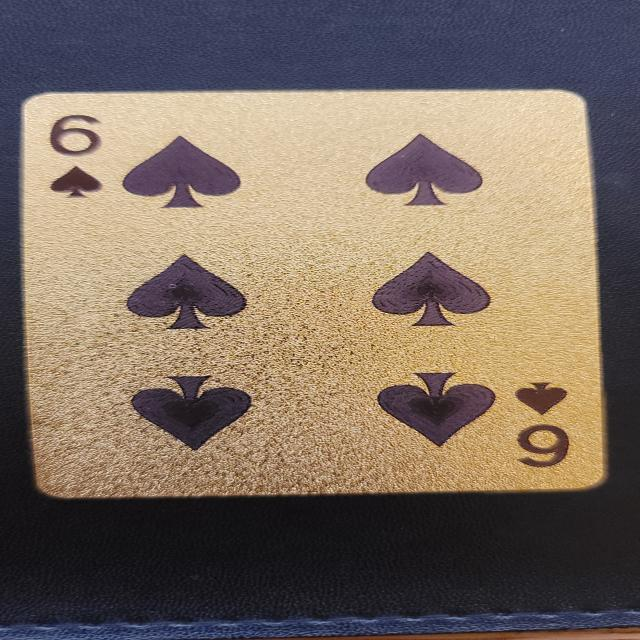6 of spades: (21, 87, 612, 502)
